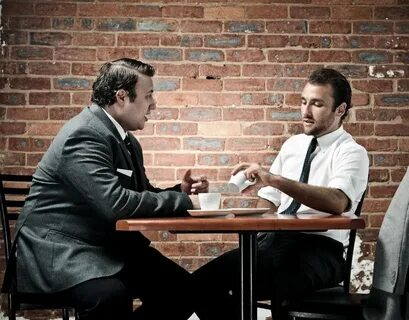awake: (10, 55, 209, 320), (247, 68, 370, 215)
